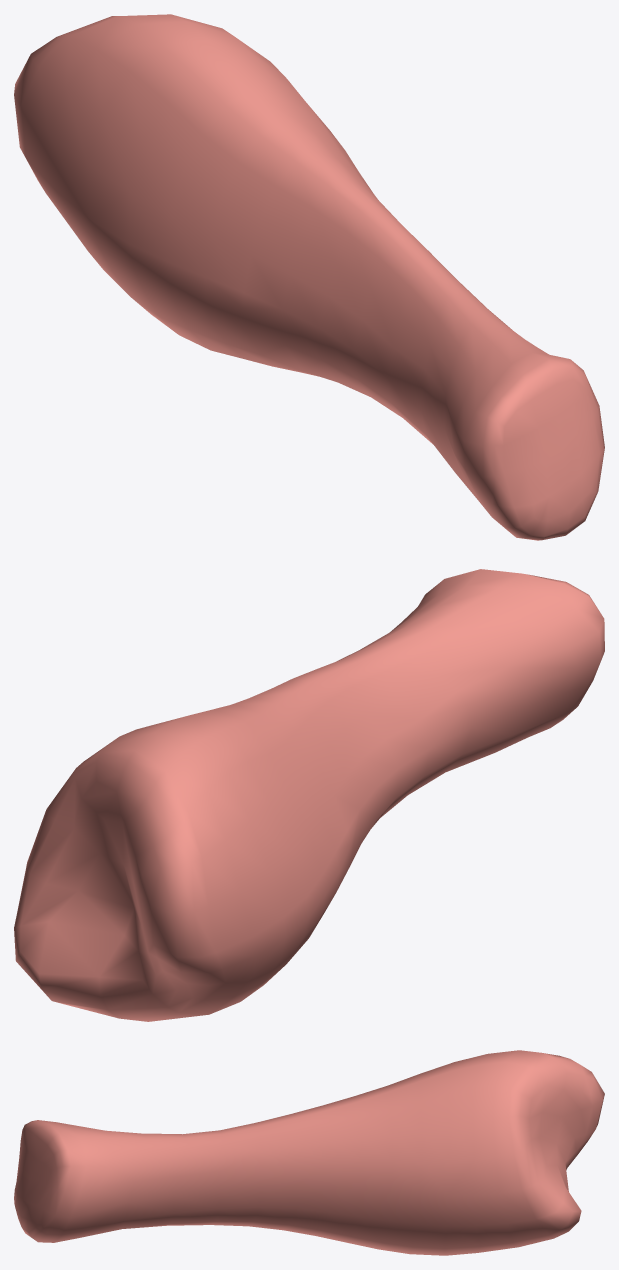
Rendered from mixamo_humanoid_surface_rightLeg.fbx.
The picture shows the model from 3 angles, top to bottom: view 1: azimuth 30°, elevation 25°; view 2: azimuth 150°, elevation 25°; view 3: azimuth 270°, elevation 25°; orthographic projection. The views are drawn at different scales.
Visible parts, largest first — view 1: surface_RightLeg; view 2: surface_RightLeg; view 3: surface_RightLeg.
Boxes of the visible parts, box(x1,y1,x2,y2) form: surface_RightLeg: box(14, 14, 604, 540); surface_RightLeg: box(14, 569, 604, 1021); surface_RightLeg: box(14, 1050, 604, 1255).
Size of the model in its own units: 13.63 by 16.21 by 46.53.
